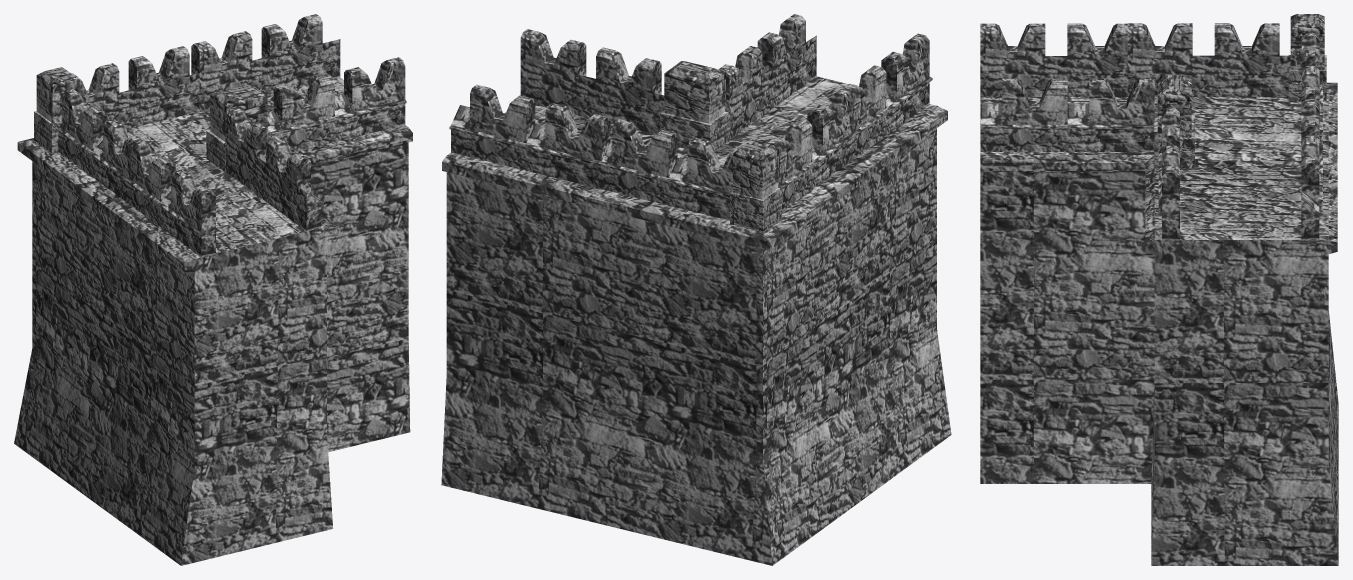
File: castleSet_WallCorner.fbx
3 views of the same model, side by side, from view 1: azimuth 30°, elevation 25°; view 2: azimuth 150°, elevation 25°; view 3: azimuth 270°, elevation 25° (orthographic). The views are drawn at different scales.
Parts seen in each view (by area): view 1: Cube.010; view 2: Cube.010; view 3: Cube.010.
Part boxes in pixels (left/top/right/bottom): Cube.010: left=14, top=14, right=412, bottom=565; Cube.010: left=441, top=14, right=951, bottom=565; Cube.010: left=980, top=14, right=1338, bottom=565.
Bounding box in the file's own units: 21.98 × 25.45 × 20.6.
